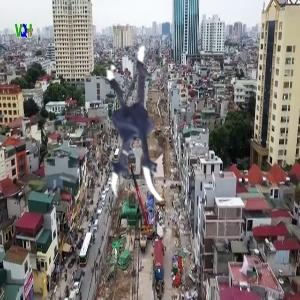drone: (72, 50, 228, 206)
